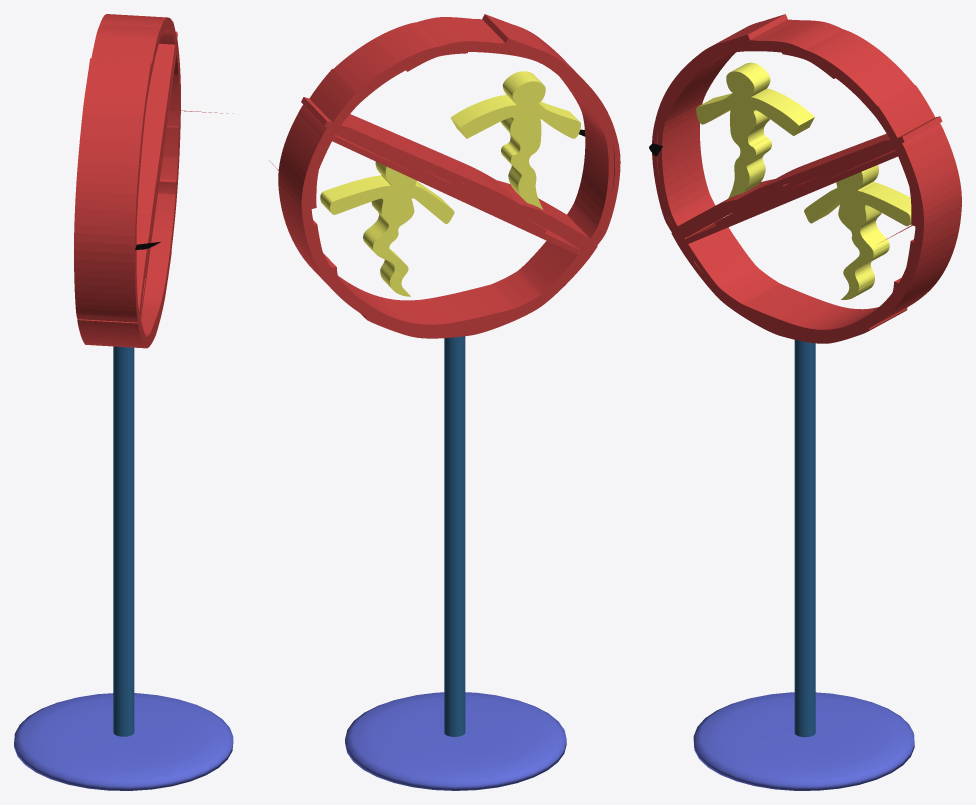
3 views of the same model, side by side, from view 1: azimuth 30°, elevation 25°; view 2: azimuth 150°, elevation 25°; view 3: azimuth 270°, elevation 25° (orthographic).
Visible parts, largest first — view 1: 16; view 2: 16; view 3: 16.
Boxes of the visible parts, left/top/right/bottom form: 16: left=14, top=14, right=233, bottom=790; 16: left=269, top=14, right=620, bottom=790; 16: left=649, top=14, right=961, bottom=790.
Bounding box in the file's own units: 0.2734 × 0.7187 × 0.2854.
